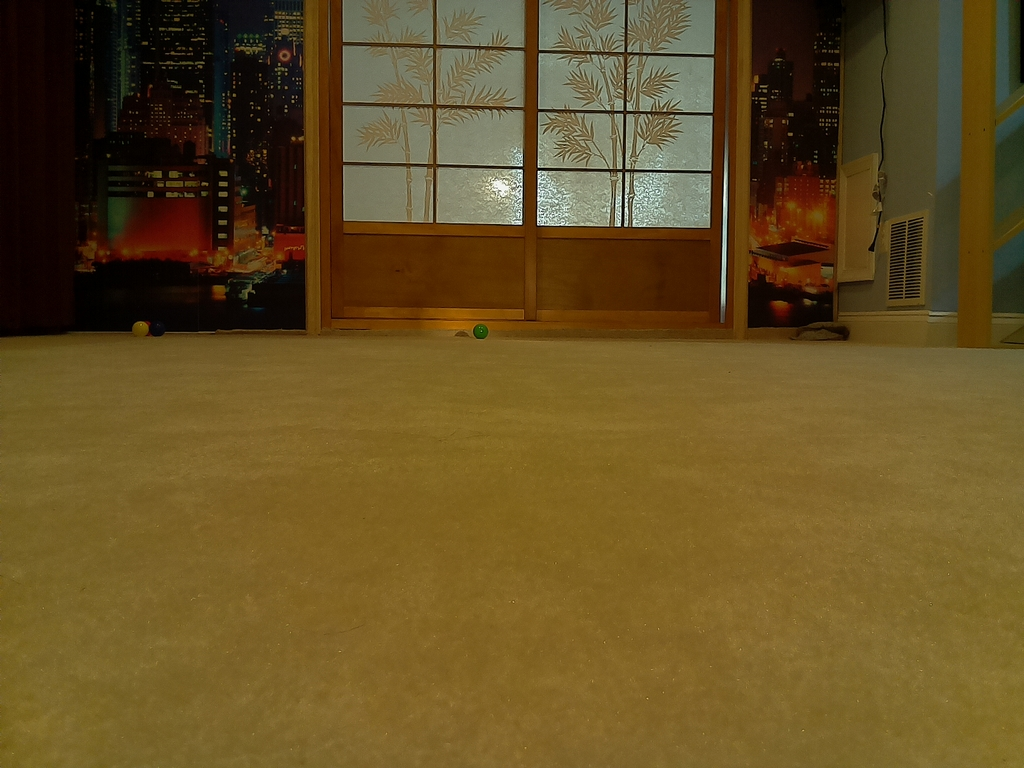ball: (475, 325, 486, 337)
